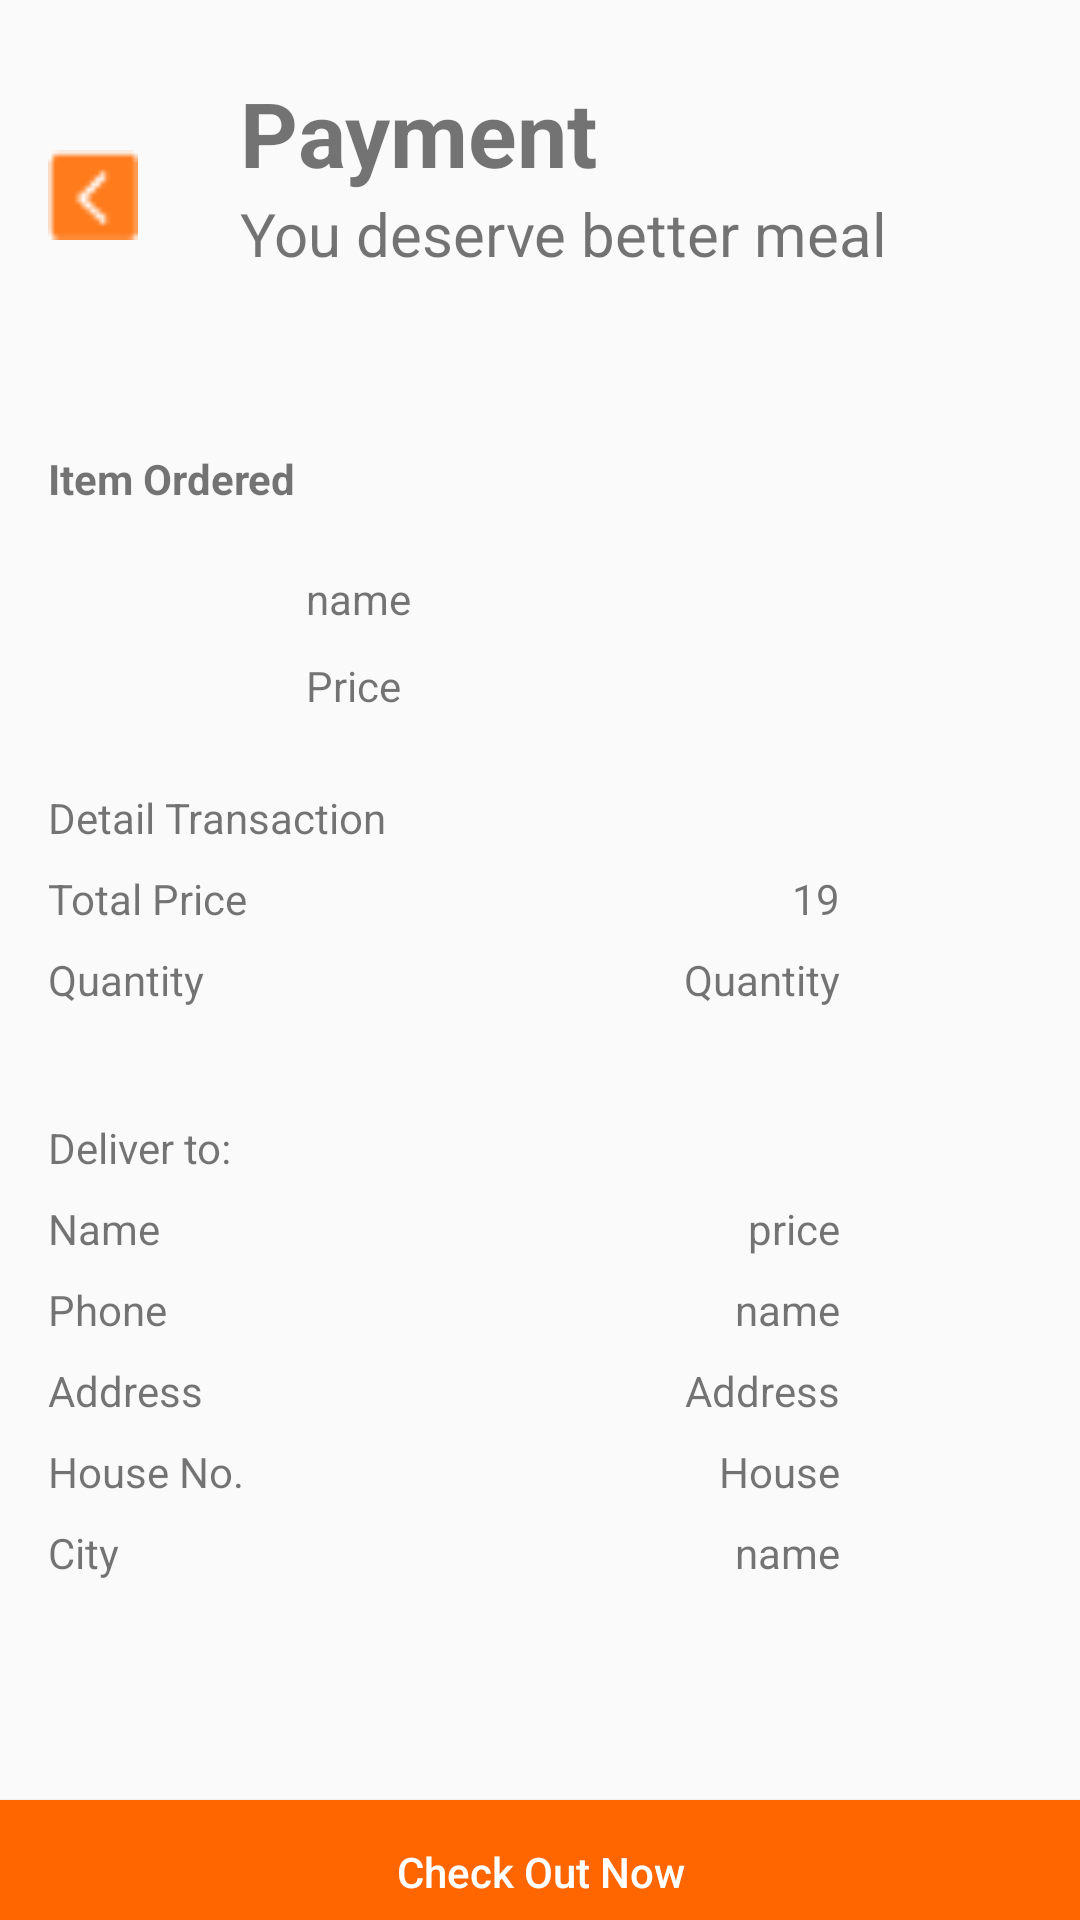

Point at icon controls on the screen. Image size 1080×1920, points as [x,y].
back: [93,195]
